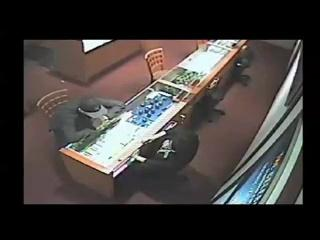normal: (24, 40, 304, 205)
